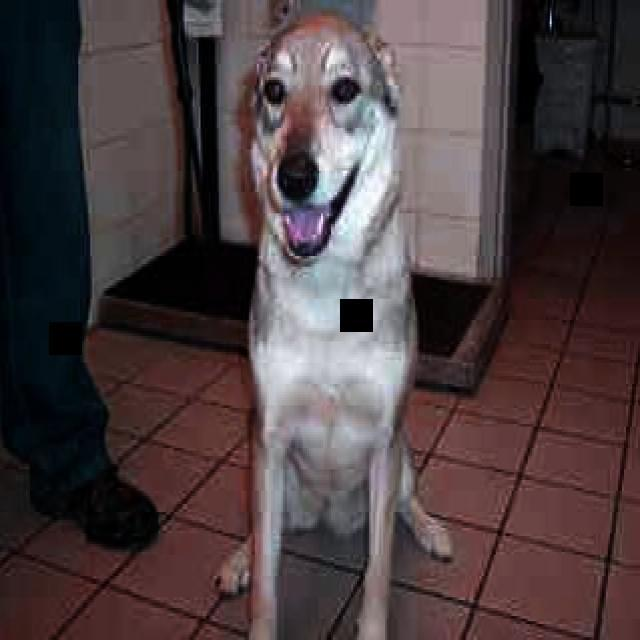adult_dog: (210, 6, 455, 640)
